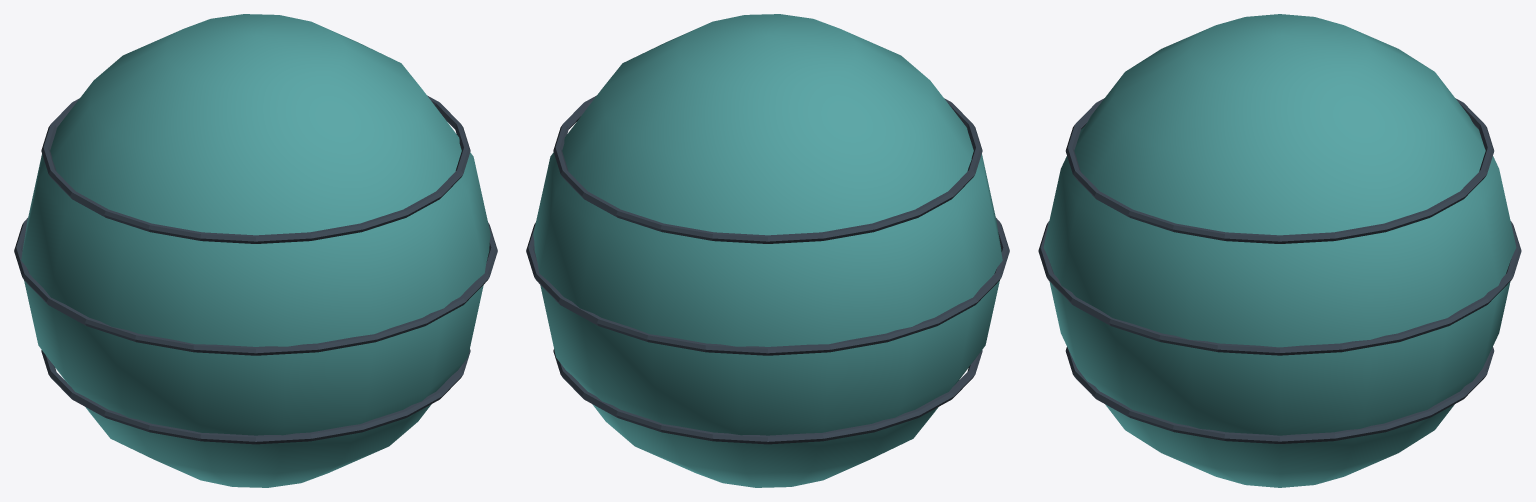
Rendered from chair_exercise_ball.glb.
3 views of the same model, side by side, from view 1: azimuth 30°, elevation 25°; view 2: azimuth 150°, elevation 25°; view 3: azimuth 270°, elevation 25° (orthographic).
Visible parts, largest first — view 1: exercise_ball; view 2: exercise_ball; view 3: exercise_ball.
Part boxes in pixels (left/top/right/bottom): exercise_ball: left=14, top=14, right=497, bottom=487; exercise_ball: left=526, top=14, right=1009, bottom=487; exercise_ball: left=1038, top=14, right=1521, bottom=487.
Size of the model in its own units: 0.876 by 0.86 by 0.876.
